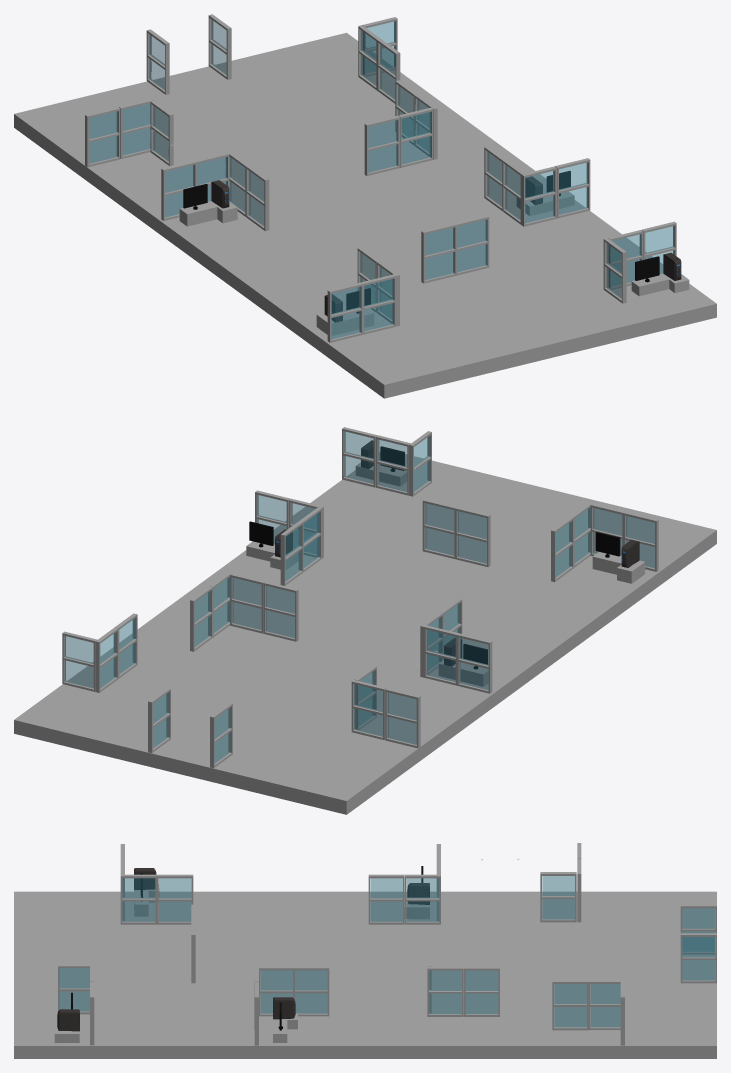
Rendered from SalasMacbook.fbx.
3 views of the same model, one above another, from view 1: azimuth 30°, elevation 25°; view 2: azimuth 150°, elevation 25°; view 3: azimuth 270°, elevation 25° (orthographic). The views are drawn at different scales.
Parts seen in each view (by area): view 1: polySurface361, polySurface399, polySurface380, polySurface414, polySurface405, polySurface384, polySurface382, polySurface388, polySurface456, polySurface386, polySurface370, polySurface346 (+40 smaller); view 2: polySurface361, polySurface380, polySurface403, polySurface407, polySurface420, polySurface384, polySurface456, polySurface370, polySurface382, polySurface399, polySurface454, polySurface418 (+42 smaller); view 3: polySurface361, polySurface374, polySurface401, polySurface422, polySurface376, polySurface448, polySurface392, polySurface416, polySurface372, polySurface368, polySurface450, polySurface378 (+24 smaller).
Boxes of the visible parts, box(x1,y1,x2,y2) form: polySurface361: box(14, 32, 716, 398); polySurface399: box(368, 120, 397, 172); polySurface380: box(401, 112, 430, 164); polySurface414: box(364, 279, 393, 331); polySurface405: box(331, 287, 360, 338); polySurface384: box(457, 220, 486, 271); polySurface382: box(425, 227, 453, 279); polySurface388: box(559, 162, 587, 214); polySurface456: box(89, 111, 117, 163); polySurface386: box(525, 171, 553, 222); polySurface370: box(122, 103, 150, 155); polySurface346: box(179, 201, 237, 226); polySurface361: box(14, 452, 716, 814); polySurface380: box(232, 577, 261, 629); polySurface403: box(344, 431, 373, 483); polySurface407: box(378, 440, 407, 491); polySurface420: box(459, 638, 488, 689); polySurface384: box(425, 503, 454, 555); polySurface456: box(388, 692, 416, 744); polySurface370: box(354, 684, 382, 736); polySurface382: box(458, 511, 486, 563); polySurface399: box(266, 586, 294, 637); polySurface454: box(65, 636, 93, 688); polySurface418: box(427, 630, 455, 681); polySurface361: box(14, 891, 716, 1058); polySurface374: box(465, 970, 498, 1013); polySurface401: box(122, 878, 155, 921); polySurface422: box(406, 878, 439, 921); polySurface376: box(682, 937, 714, 980); polySurface448: box(370, 878, 402, 921); polySurface392: box(159, 878, 191, 921); polySurface416: box(295, 970, 327, 1013); polySurface372: box(429, 970, 461, 1013); polySurface368: box(542, 876, 574, 919); polySurface450: box(554, 984, 586, 1027); polySurface378: box(682, 908, 714, 951).
Bounding box in the file's own units: 25.27 × 4.71 × 48.66.
